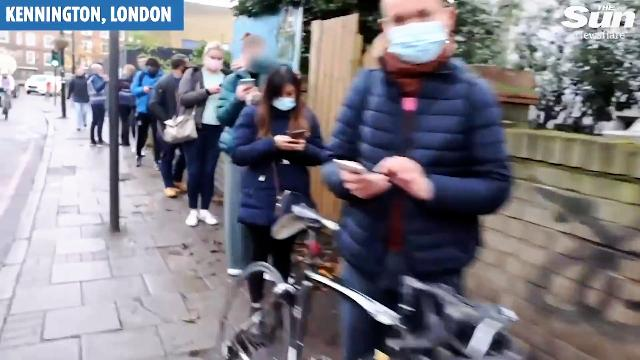berdiri: (321, 6, 523, 360), (230, 56, 326, 330)
